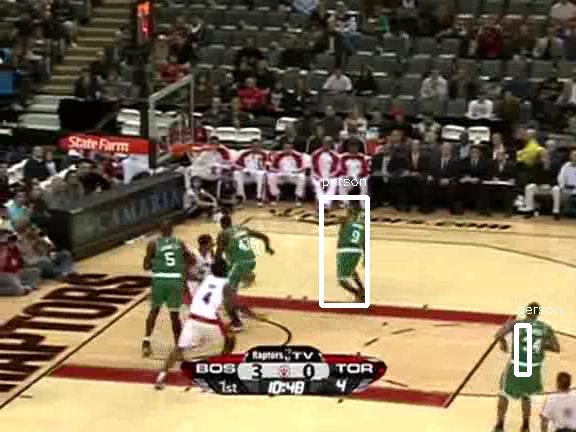person: (336, 206, 370, 287), (335, 206, 369, 287), (337, 206, 371, 287), (336, 205, 370, 286), (336, 207, 370, 288)
target_negative: (164, 172, 485, 296), (272, 26, 374, 394), (53, 41, 65, 199), (513, 261, 534, 336), (40, 355, 166, 360), (560, 299, 568, 311)
